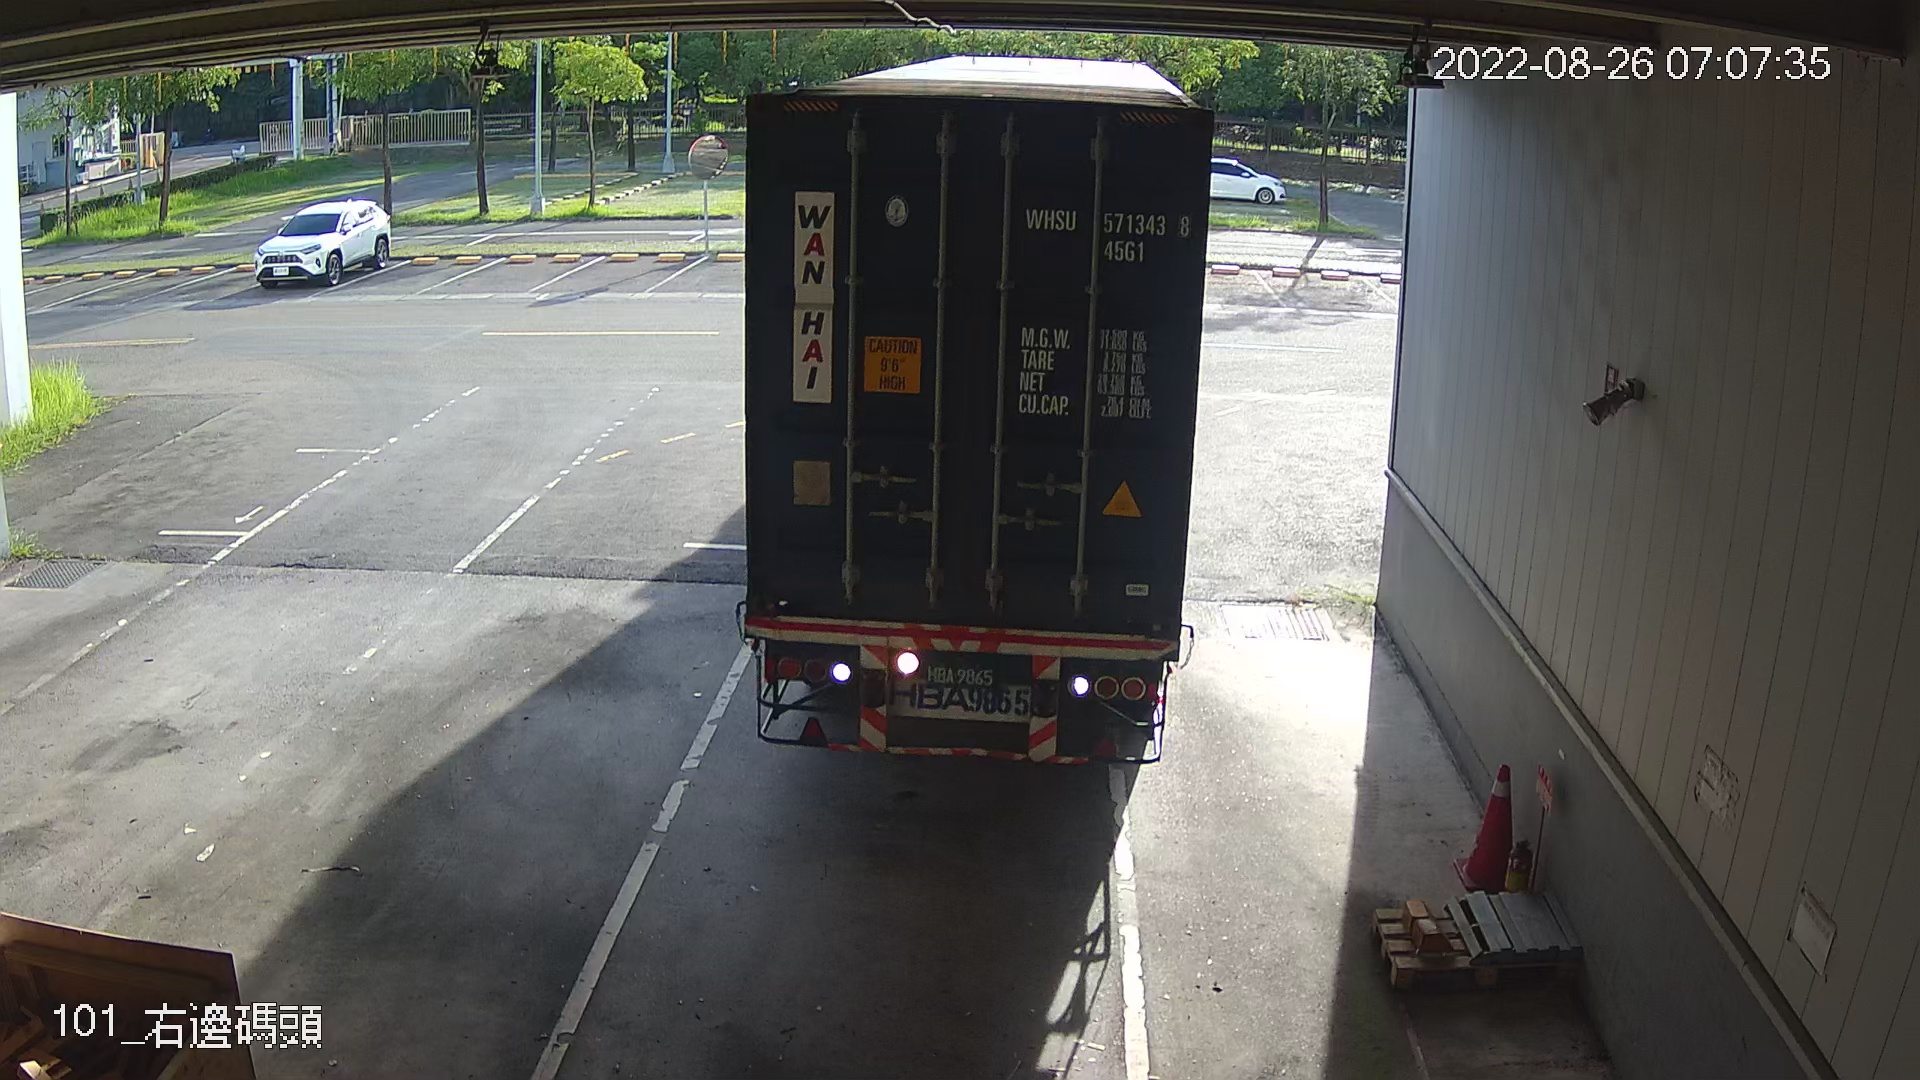container: (1011, 195, 1197, 269)
